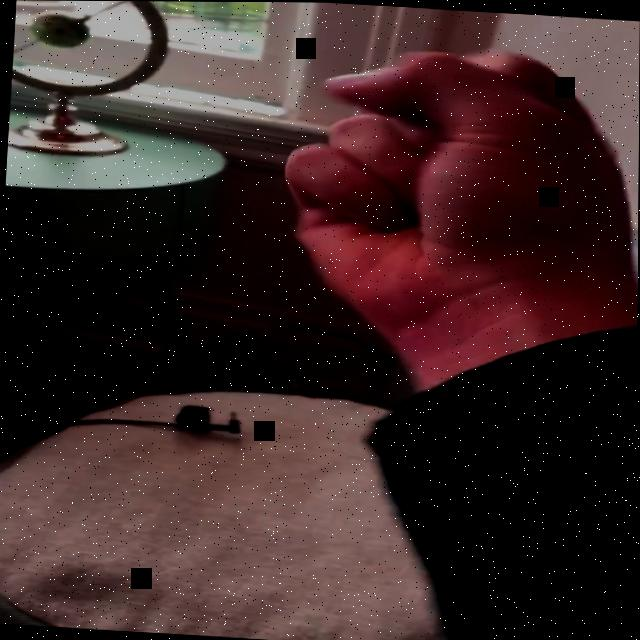Rock: (274, 35, 640, 340)
